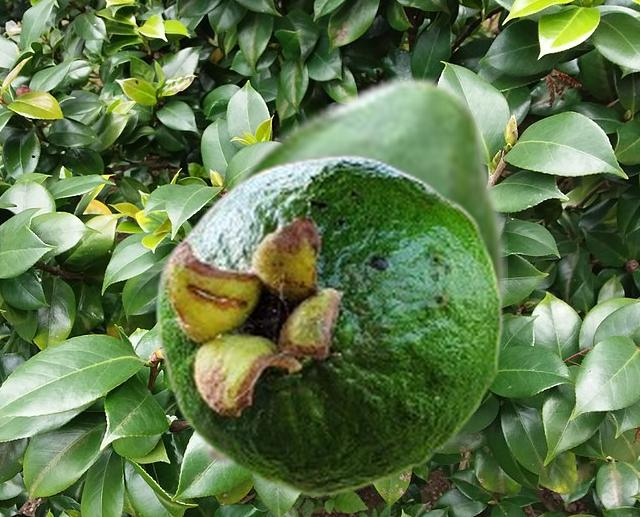guava: (201, 72, 506, 476), (154, 153, 504, 497)
